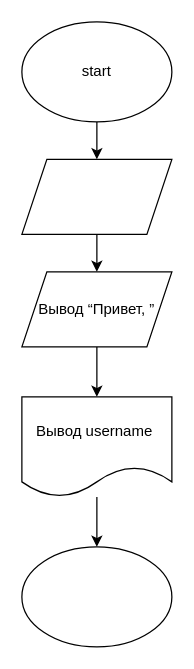
Some shapes in this 194 by 669 pixel diagram are drawn without their labels. The centre of each missing label's shape, as x and y in pixels:
"end" goes at (x=96, y=596).
"Ввод username" goes at (x=96, y=196).
